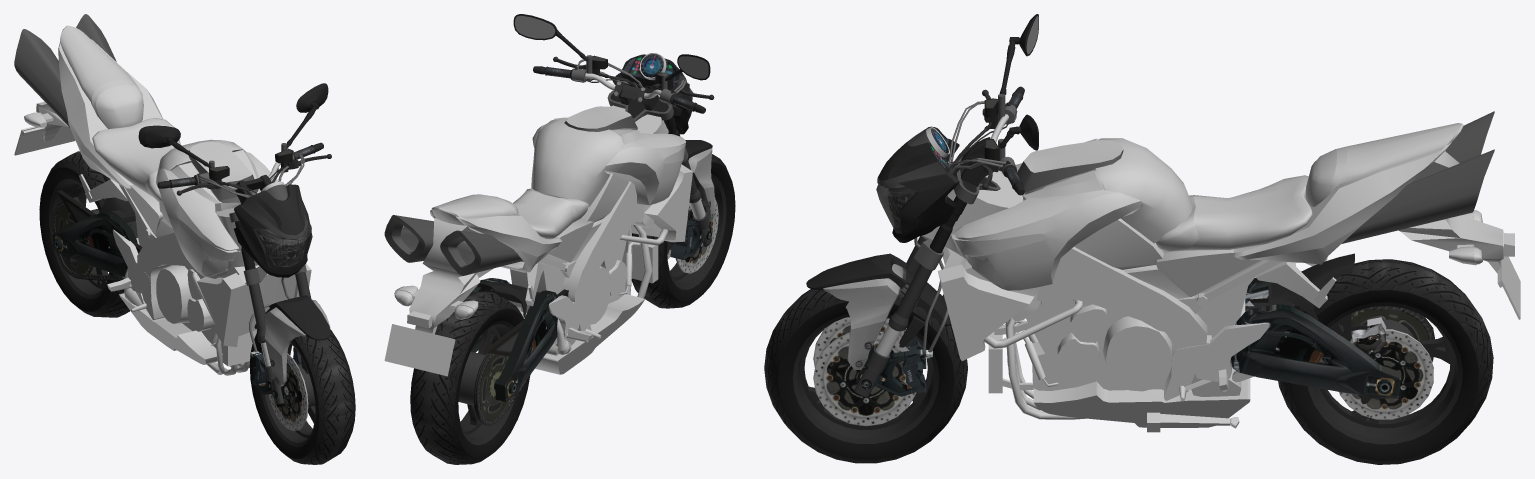
The model's file is motorcycle.fbx.
The picture shows the model from 3 angles, left to right: view 1: azimuth 30°, elevation 25°; view 2: azimuth 150°, elevation 25°; view 3: azimuth 270°, elevation 25°; orthographic projection. The views are drawn at different scales.
Parts seen in each view (by area): view 1: Steer; view 2: Steer; view 3: Steer.
Boxes of the visible parts, x1,y1,x2,y2 form: Steer: (14, 14, 355, 464); Steer: (384, 14, 735, 464); Steer: (764, 14, 1520, 464).
Size of the model in its own units: 5.15 by 7.99 by 14.
